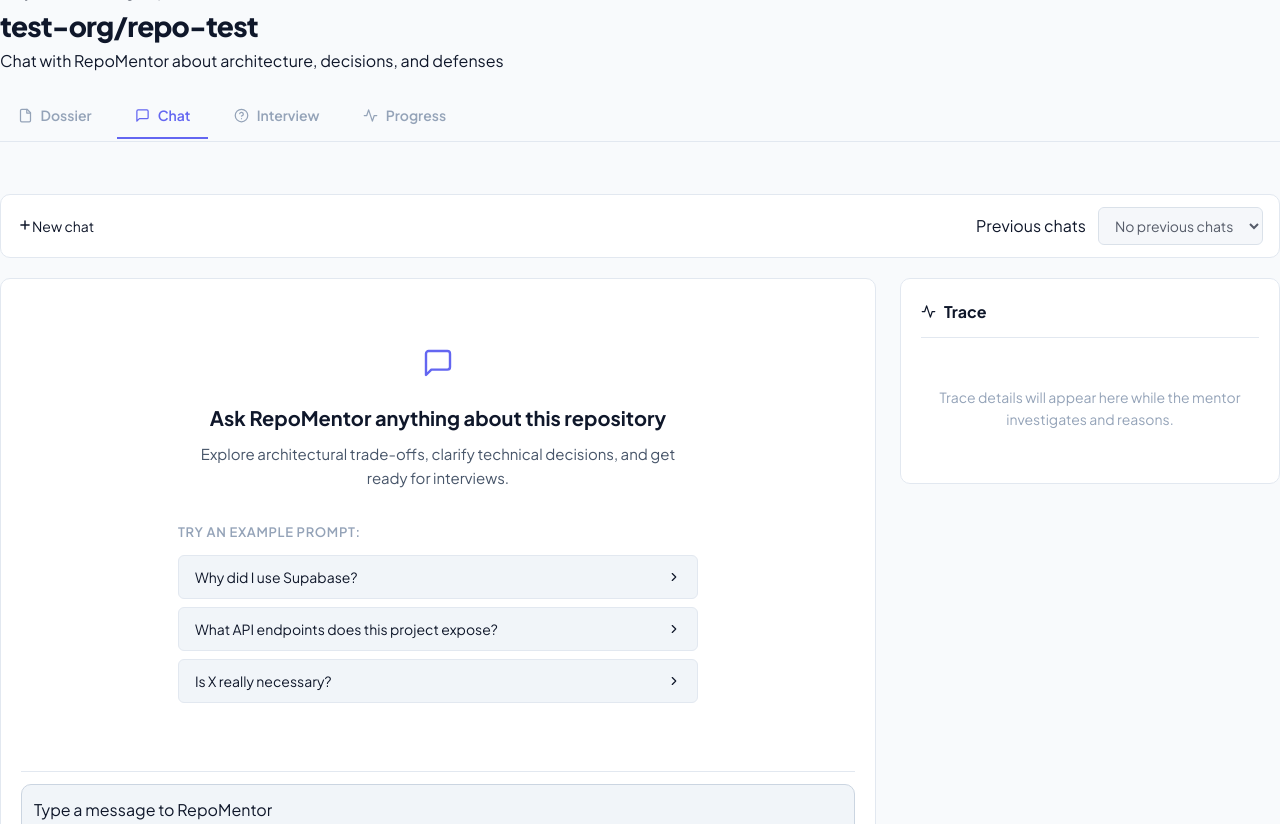
Test: ChatPage › fills textarea when clicking an example prompt
Expected: the heading "test-org/repo-test" is shown, [0, 8, 258, 43]
Click the button "Why did I use Supabase?" at (276, 577), box [178, 554, 698, 598]
(page scrolled)
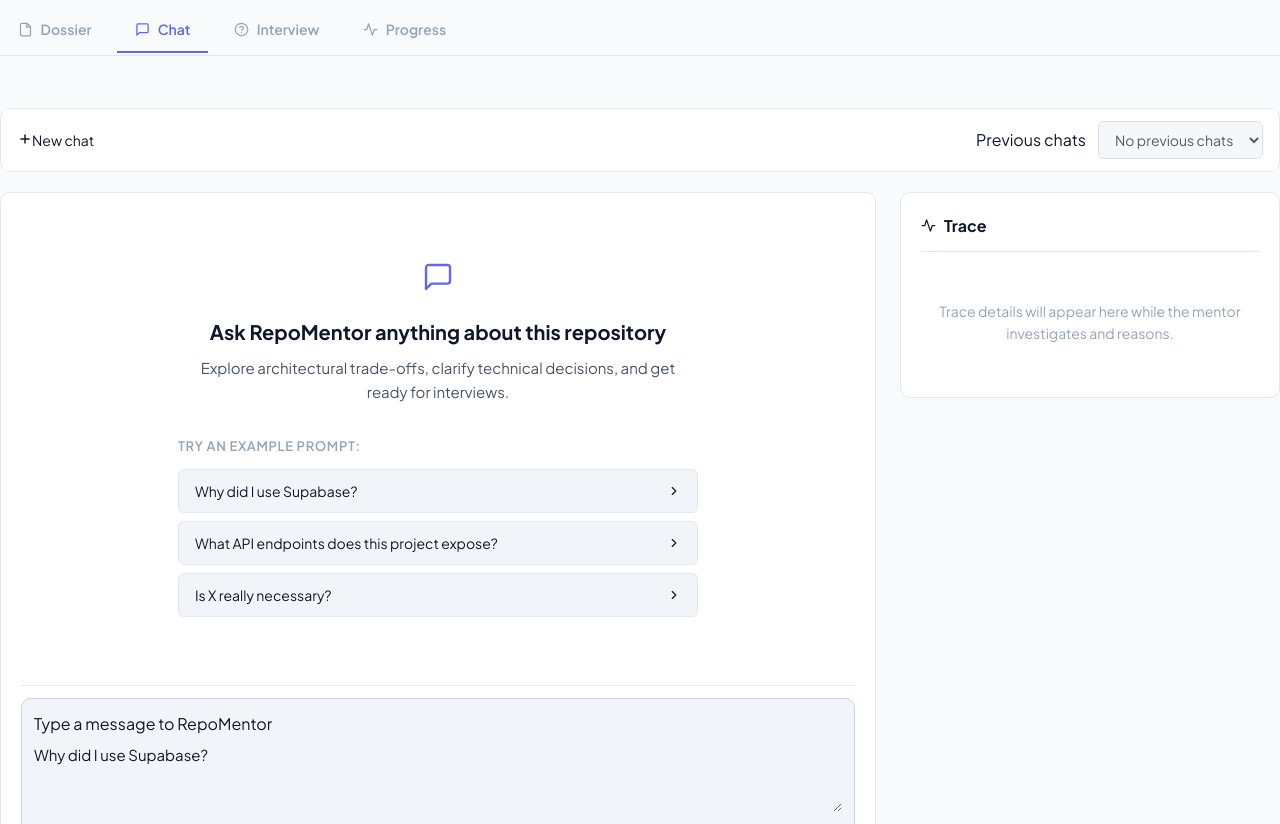
Result: the text box with placeholder "Ask a question about this repository" holds "Why did I use Supabase?" at [34, 744, 842, 812]
